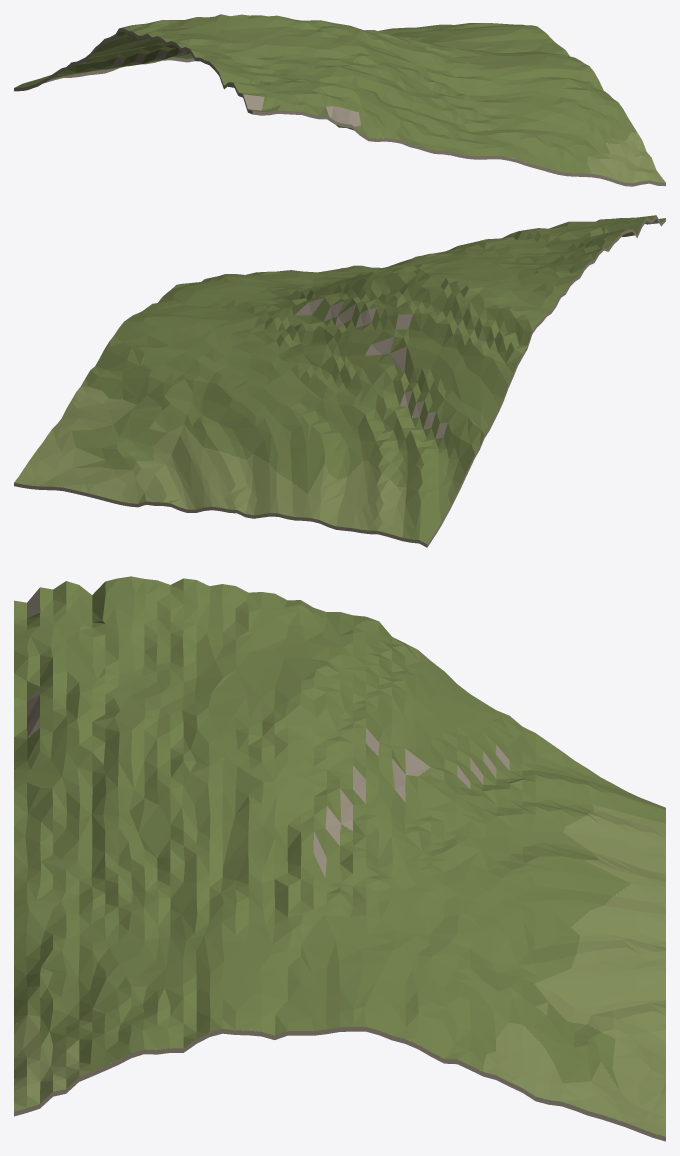
The model's file is parca_+8_-5-uzak.glb.
The picture shows the model from 3 angles, top to bottom: view 1: azimuth 30°, elevation 25°; view 2: azimuth 150°, elevation 25°; view 3: azimuth 270°, elevation 25°; orthographic projection. The views are drawn at different scales.
Visible parts, largest first — view 1: parca_+8_-5_arazi_uzak; view 2: parca_+8_-5_arazi_uzak; view 3: parca_+8_-5_arazi_uzak.
Part boxes in pixels (x1=…): parca_+8_-5_arazi_uzak: x1=14, y1=14, x2=665, y2=186; parca_+8_-5_arazi_uzak: x1=14, y1=215, x2=665, y2=547; parca_+8_-5_arazi_uzak: x1=14, y1=576, x2=665, y2=1141.
Bounding box in the file's own units: 1000 × 490 × 1000.
